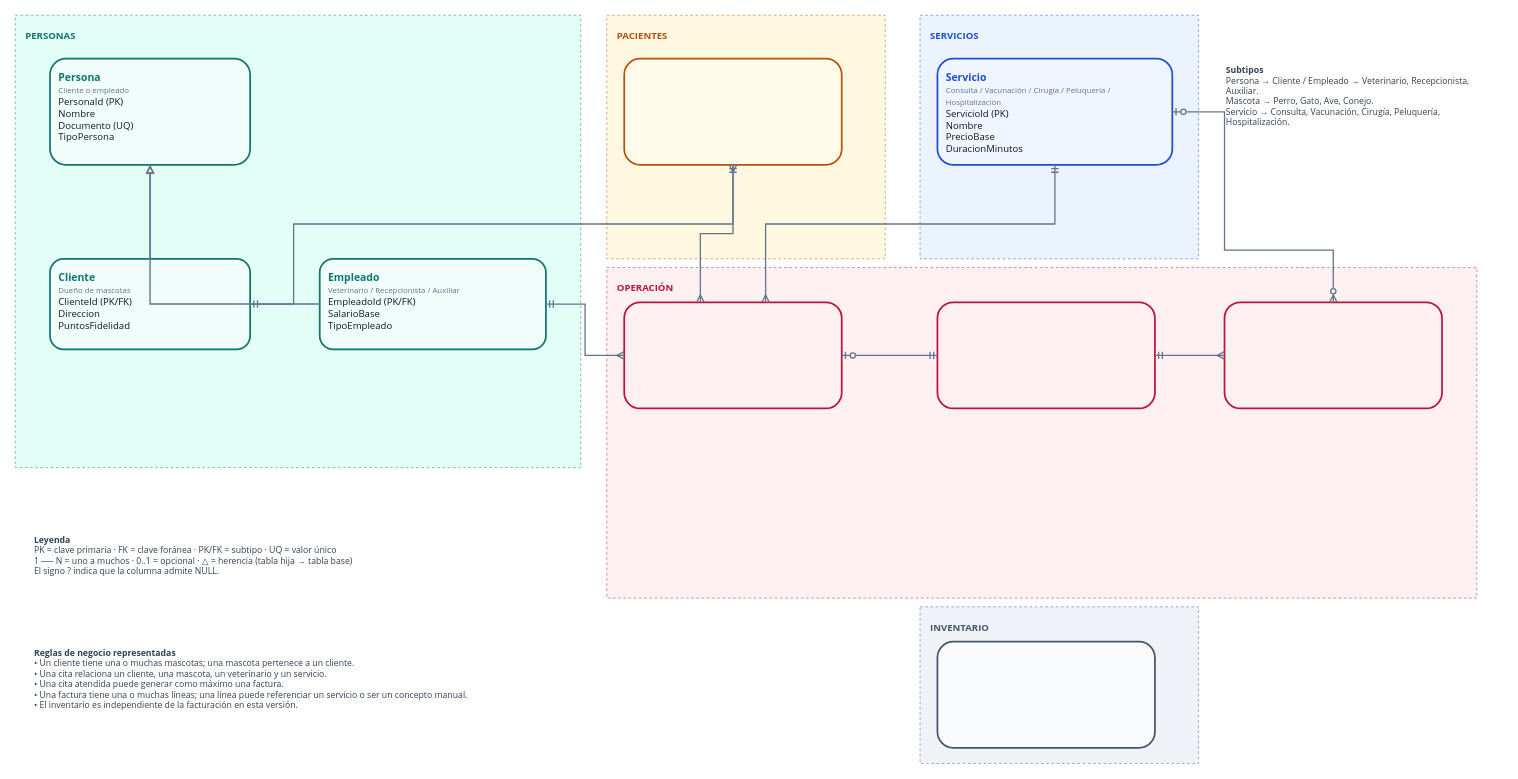
The diagram is 1518 pixels wide and 779 high, and some of its shapes have lost their labels. The shapes that lost their labels are listed below. From the top down, each one's centre as x and y in pixels, then its label:
pixel 732 111: Mascota Perro / Gato / Ave / Conejo MascotaId (PK) Nombre Especie PesoKg
pixel 732 355: Cita Agenda clínica CitaId (PK) FechaHora Estado Diagnostico
pixel 1045 355: Factura Documento de cobro FacturaId (PK) Numero (UQ) Fecha Total (derivado)
pixel 1332 355: DetalleFactura Línea de cobro DetalleId (PK) Descripcion Cantidad PrecioUnitario
pixel 1045 694: Producto Inventario ProductoId (PK) Nombre Stock Precio
